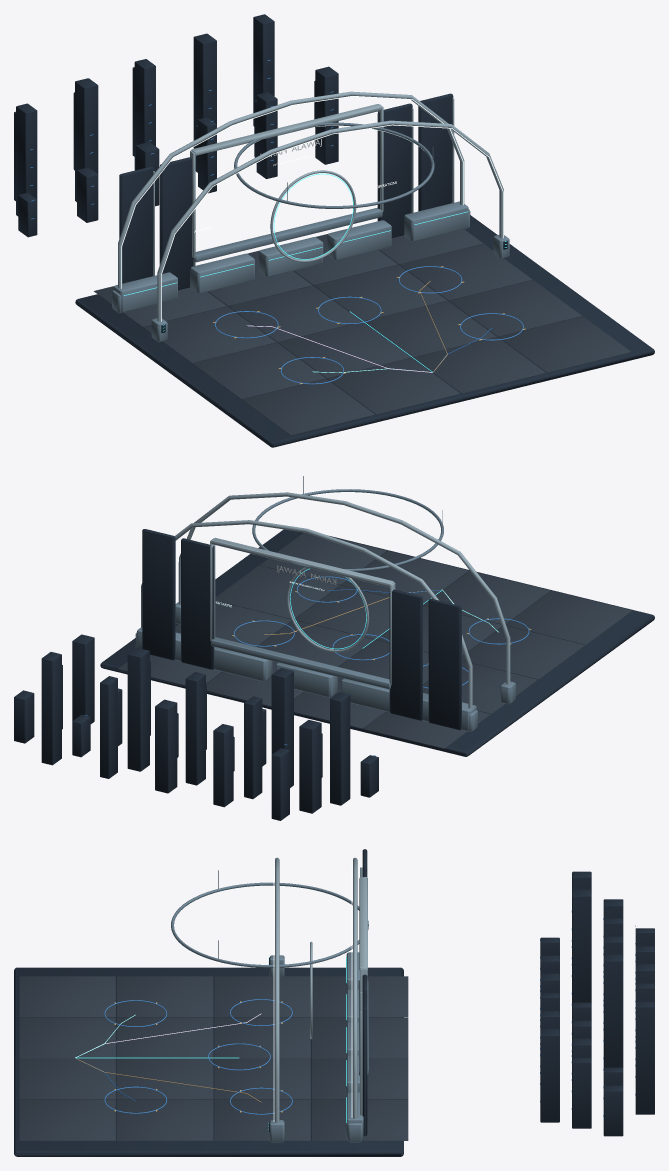
File: world.glb
3 views of the same model, one above another, from view 1: azimuth 30°, elevation 25°; view 2: azimuth 150°, elevation 25°; view 3: azimuth 270°, elevation 25° (orthographic). The views are drawn at different scales.
Parts seen in each view (by area): view 1: FutureStudio_Stage graphite, FutureStudio_Basalt composite, FutureStudio_Brushed alloy, FutureStudio_Architectural ceramic, FutureStudio_Pearl light, FutureStudio_Deep blue guide, FutureStudio_Ion cyan; view 2: FutureStudio_Basalt composite, FutureStudio_Stage graphite, FutureStudio_Brushed alloy, FutureStudio_Architectural ceramic, FutureStudio_Deep blue guide; view 3: FutureStudio_Stage graphite, FutureStudio_Basalt composite, FutureStudio_Brushed alloy, FutureStudio_Architectural ceramic, FutureStudio_Pearl light, FutureStudio_Deep blue guide, FutureStudio_Ion cyan.
Part boxes in pixels (box(x1,y1,x2,y2)): FutureStudio_Stage graphite: box(94, 229, 631, 435); FutureStudio_Basalt composite: box(14, 14, 654, 447); FutureStudio_Brushed alloy: box(112, 122, 509, 342); FutureStudio_Architectural ceramic: box(118, 91, 503, 321); FutureStudio_Pearl light: box(121, 96, 503, 321); FutureStudio_Deep blue guide: box(30, 60, 523, 384); FutureStudio_Ion cyan: box(124, 173, 506, 372); FutureStudio_Basalt composite: box(14, 529, 654, 820); FutureStudio_Stage graphite: box(118, 532, 632, 748); FutureStudio_Brushed alloy: box(135, 476, 515, 731); FutureStudio_Architectural ceramic: box(141, 492, 510, 708); FutureStudio_Deep blue guide: box(85, 576, 529, 756); FutureStudio_Stage graphite: box(19, 976, 408, 1140); FutureStudio_Basalt composite: box(14, 849, 654, 1156); FutureStudio_Brushed alloy: box(171, 870, 368, 1142); FutureStudio_Architectural ceramic: box(275, 857, 367, 1122); FutureStudio_Pearl light: box(181, 861, 352, 1121); FutureStudio_Deep blue guide: box(104, 911, 635, 1116); FutureStudio_Ion cyan: box(75, 957, 346, 1129).
Size of the model in its own units: 18 by 7.83 by 26.3.
